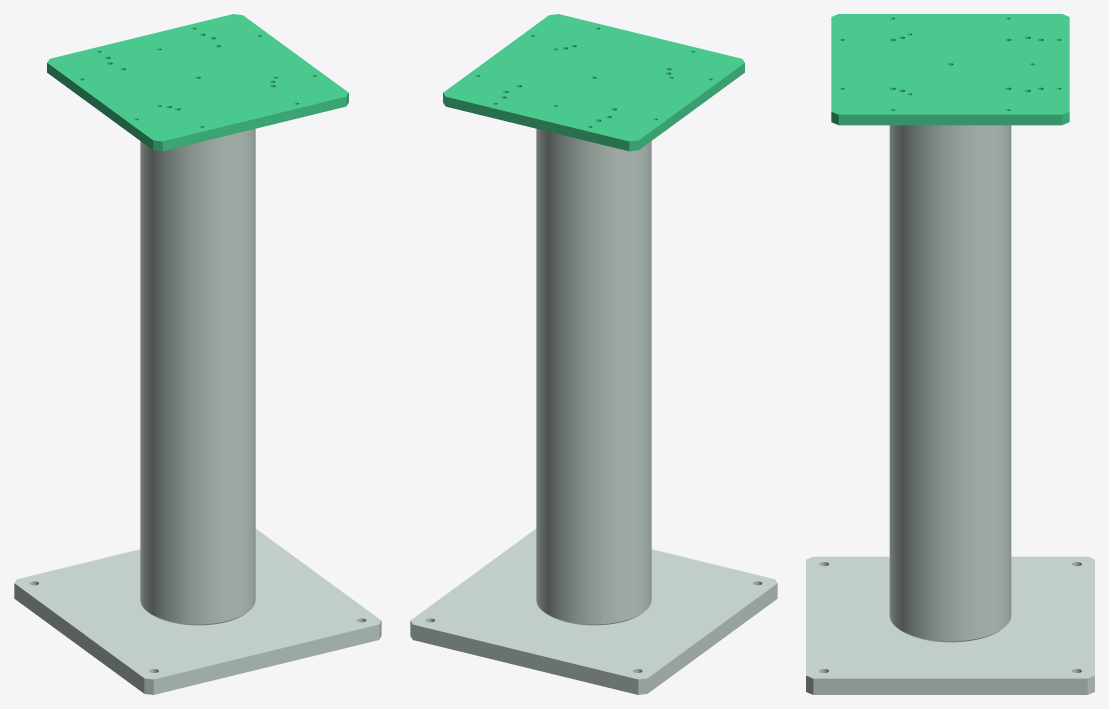
Rendered from RobotStand.fbx.
3 views of the same model, side by side, from view 1: azimuth 30°, elevation 25°; view 2: azimuth 150°, elevation 25°; view 3: azimuth 270°, elevation 25° (orthographic). The views are drawn at different scales.
Parts seen in each view (by area): view 1: D110624H-1-; view 2: D110624H-1-; view 3: D110624H-1-.
Part boxes in pixels (left/top/right/bottom): D110624H-1-: left=14, top=14, right=381, bottom=694; D110624H-1-: left=410, top=14, right=777, bottom=694; D110624H-1-: left=806, top=14, right=1094, bottom=694.
Bounding box in the file's own units: 40 × 87 × 40.
